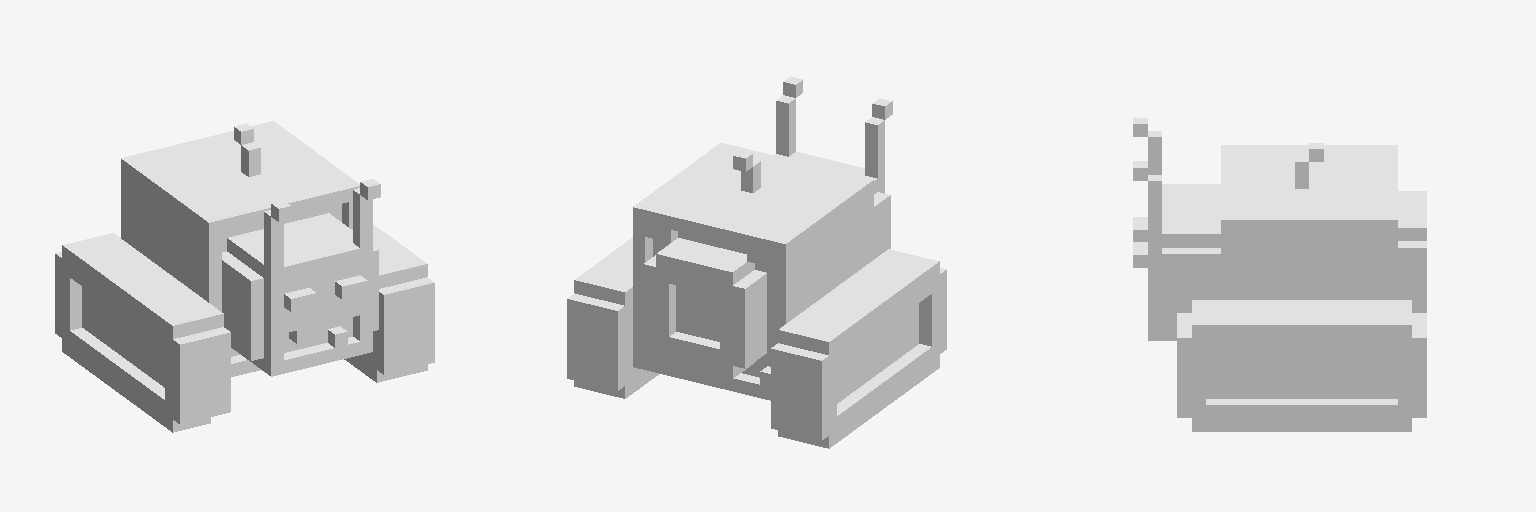
Rendered from Detonator.obj.
3 renders of one model, left to right at view 1: azimuth 30°, elevation 25°; view 2: azimuth 150°, elevation 25°; view 3: azimuth 270°, elevation 25°, orthographic.
Parts seen in each view (by area): view 1: Detonator; view 2: Detonator; view 3: Detonator.
Boxes of the visible parts, x1=… form: Detonator: x1=55, y1=121, x2=434, y2=432; Detonator: x1=567, y1=76, x2=946, y2=448; Detonator: x1=1133, y1=118, x2=1426, y2=431.
Size of the model in its own units: 2 by 1.7 by 2.